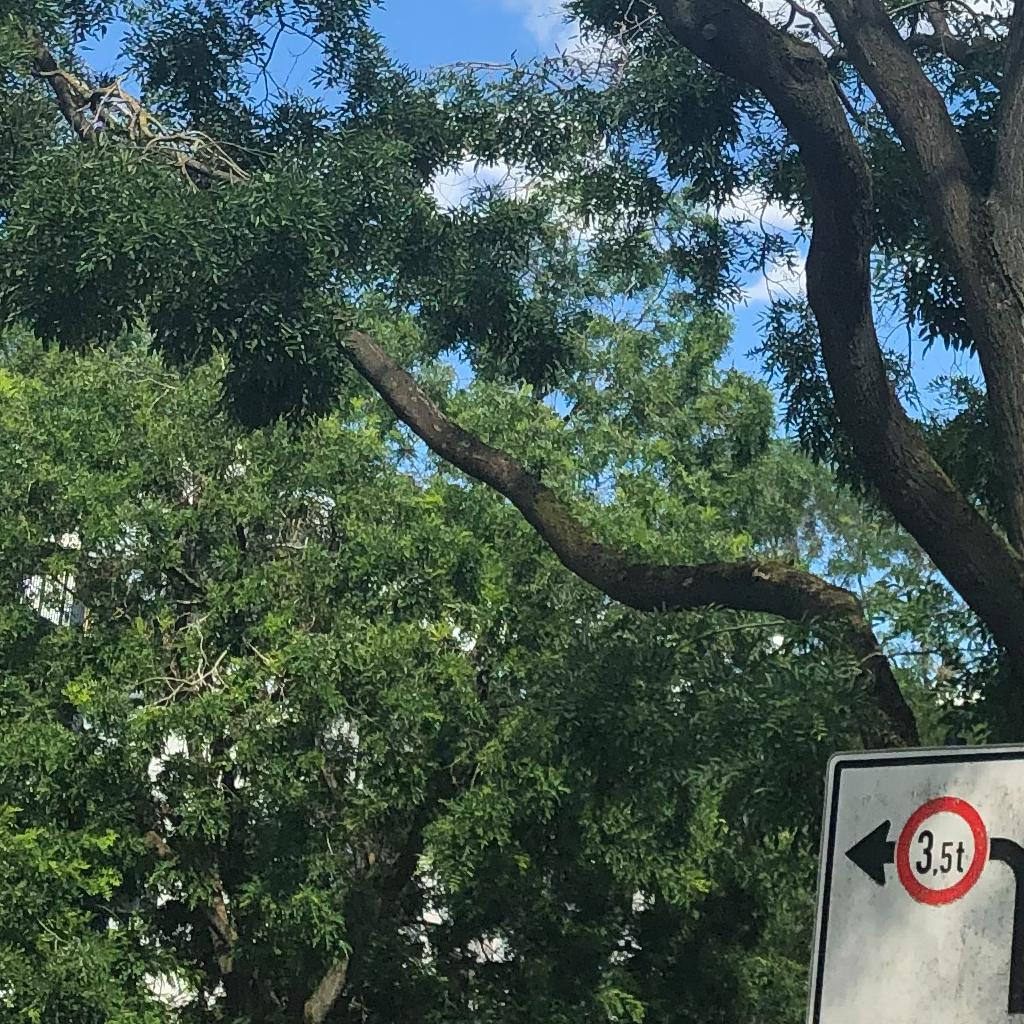tree: (4, 1, 1024, 753), (1, 291, 956, 1024)
